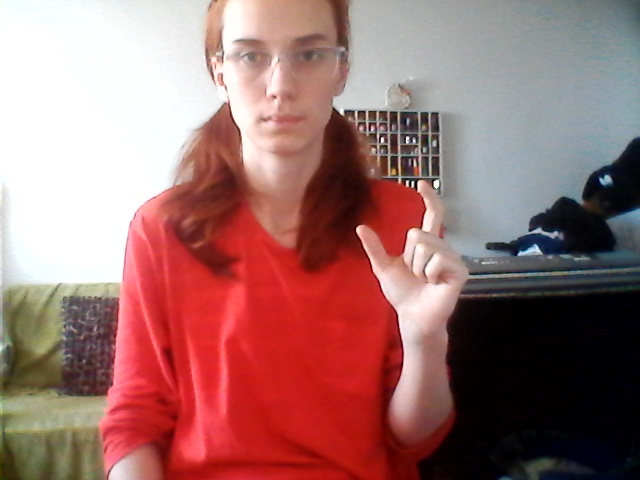c: (350, 179, 478, 327)
